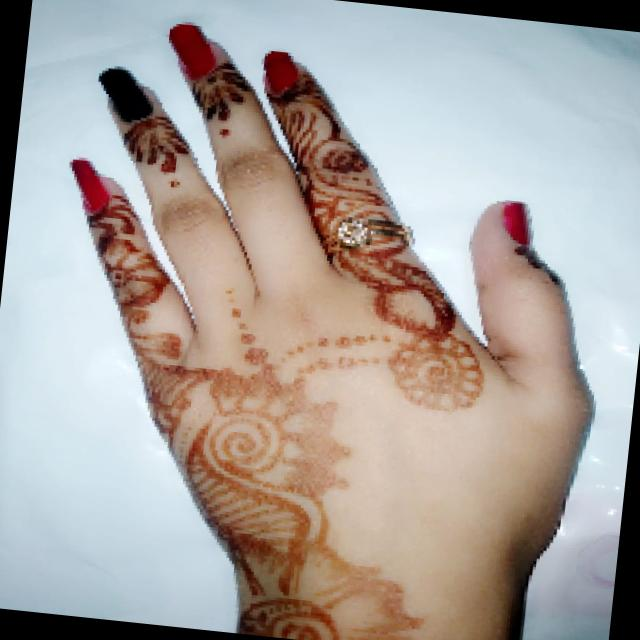Nail: (98, 67, 152, 121), (169, 24, 216, 79), (70, 158, 109, 209), (264, 51, 298, 91), (502, 202, 528, 246)
